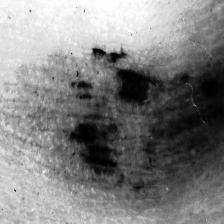Benign Marking or Mole: (76, 42, 172, 201)
